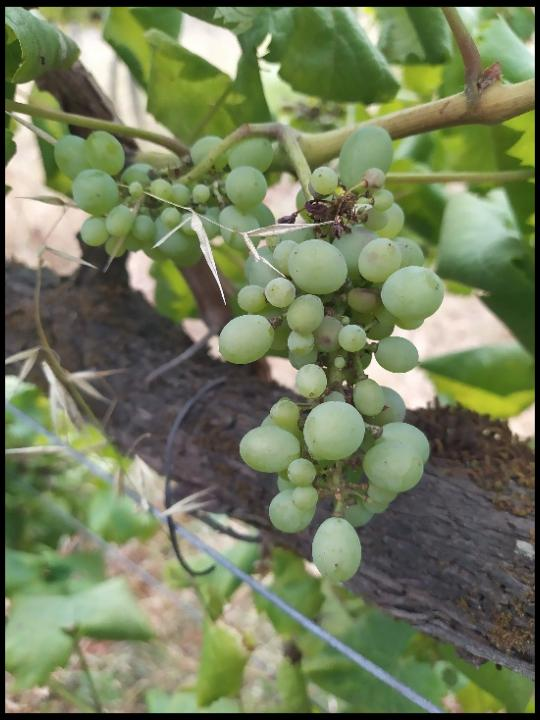grape: (214, 121, 449, 588)
